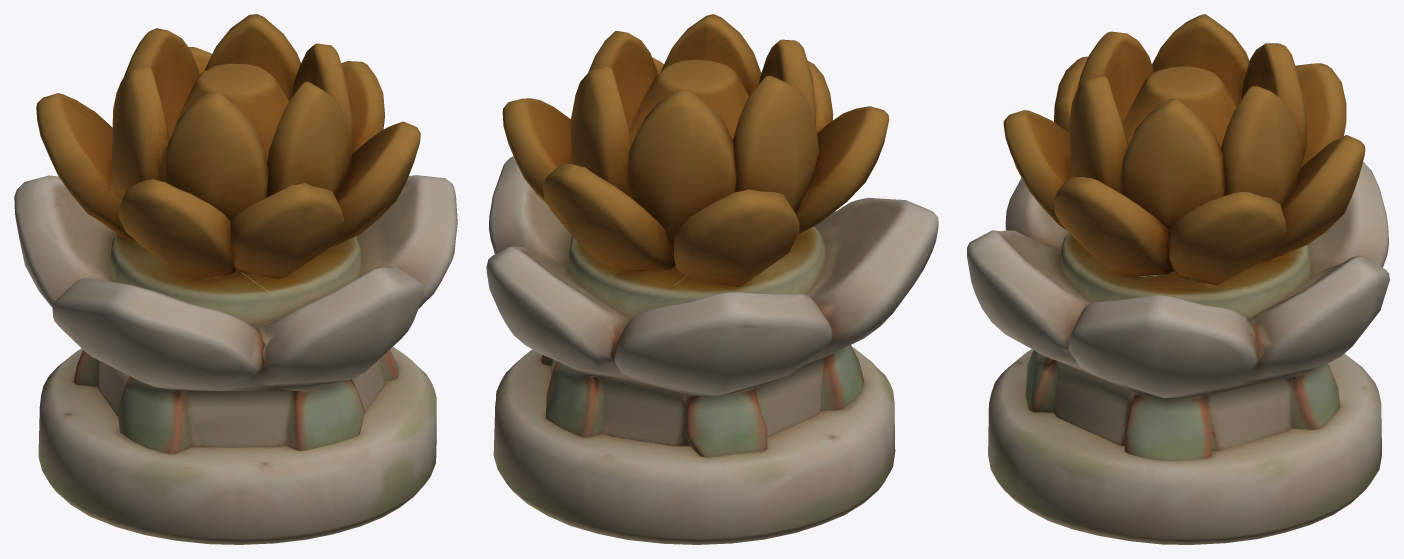
File: tripo_convert_e0a64814-c632-4a1f-b498-59287a01b4b7.fbx
The picture shows the model from 3 angles, left to right: view 1: azimuth 30°, elevation 25°; view 2: azimuth 150°, elevation 25°; view 3: azimuth 270°, elevation 25°; orthographic projection.
Visible parts, largest first — view 1: tripo_node_e0a64814; view 2: tripo_node_e0a64814; view 3: tripo_node_e0a64814.
Boxes of the visible parts, bbox=[...] form: tripo_node_e0a64814: bbox=[14, 14, 457, 544]; tripo_node_e0a64814: bbox=[486, 14, 938, 544]; tripo_node_e0a64814: bbox=[967, 14, 1389, 544].
Bounding box in the file's own units: 0.998 × 0.998 × 0.9434.
Materials: 1 (1 with a texture image).
